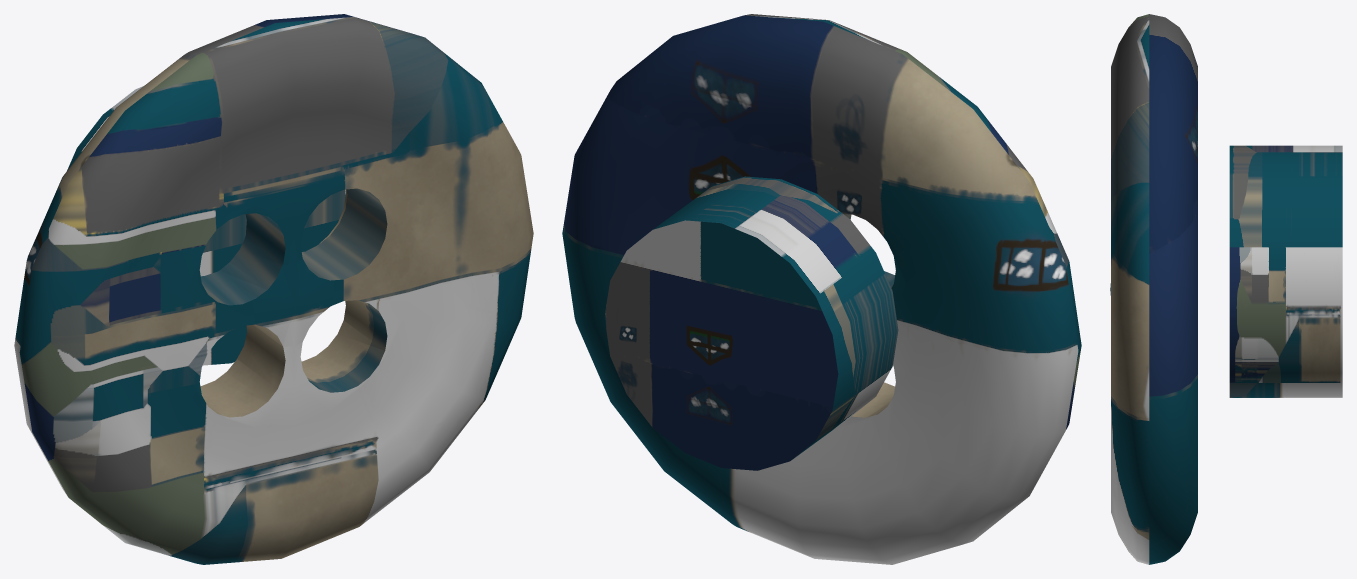
File: DoorHandles.fbx
3 renders of one model, left to right at view 1: azimuth 30°, elevation 25°; view 2: azimuth 150°, elevation 25°; view 3: azimuth 270°, elevation 25°, orthographic. The views are drawn at different scales.
Parts seen in each view (by area): view 1: polySurface36, theknob3; view 2: polySurface36, theknob3; view 3: polySurface36, theknob3.
Boxes of the visible parts, box(x1,y1,x2,y2) form: polySurface36: box(14, 14, 533, 564); theknob3: box(67, 86, 345, 365); polySurface36: box(562, 14, 1081, 564); theknob3: box(604, 176, 898, 470); polySurface36: box(1110, 14, 1197, 564); theknob3: box(1229, 145, 1342, 397).
Bounding box in the file's own units: 0.3439 × 0.3439 × 0.1439.
